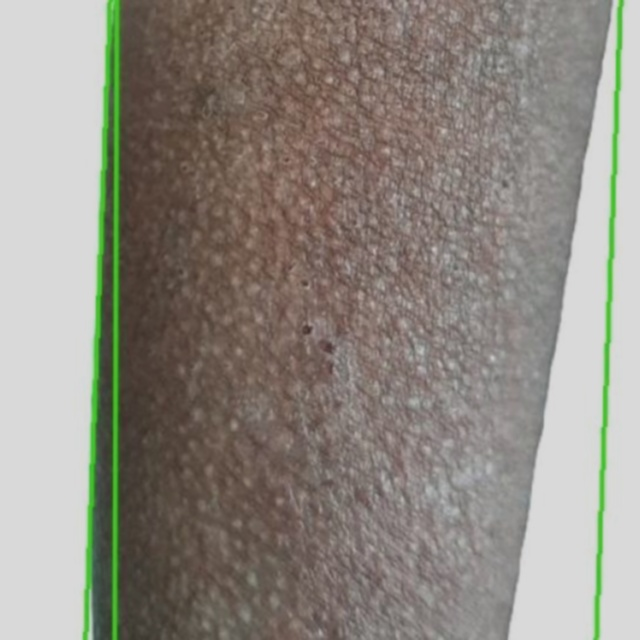Contact Dermatitis: (85, 0, 619, 639)
